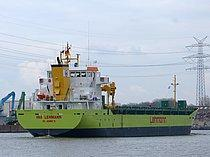Ship: (12, 39, 203, 139)
